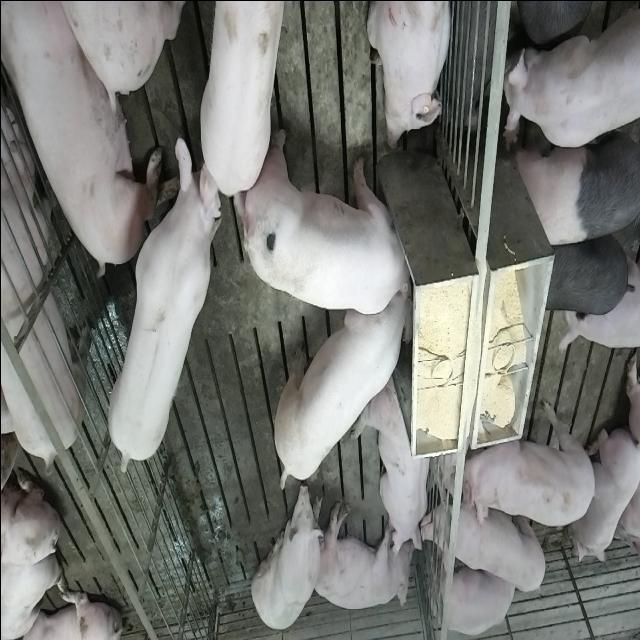Feeding: (242, 128, 420, 314), (268, 284, 410, 497)
Lateral_lying: (310, 499, 413, 612)
Sitting: (250, 480, 323, 632)
Standing: (104, 130, 223, 472), (0, 73, 92, 470), (501, 0, 638, 151), (464, 394, 598, 526), (201, 0, 289, 201), (512, 114, 638, 250), (418, 477, 546, 592), (534, 226, 634, 316)
Sternal_lying: (356, 372, 432, 554), (366, 0, 454, 149), (573, 420, 638, 566), (433, 553, 516, 634)
